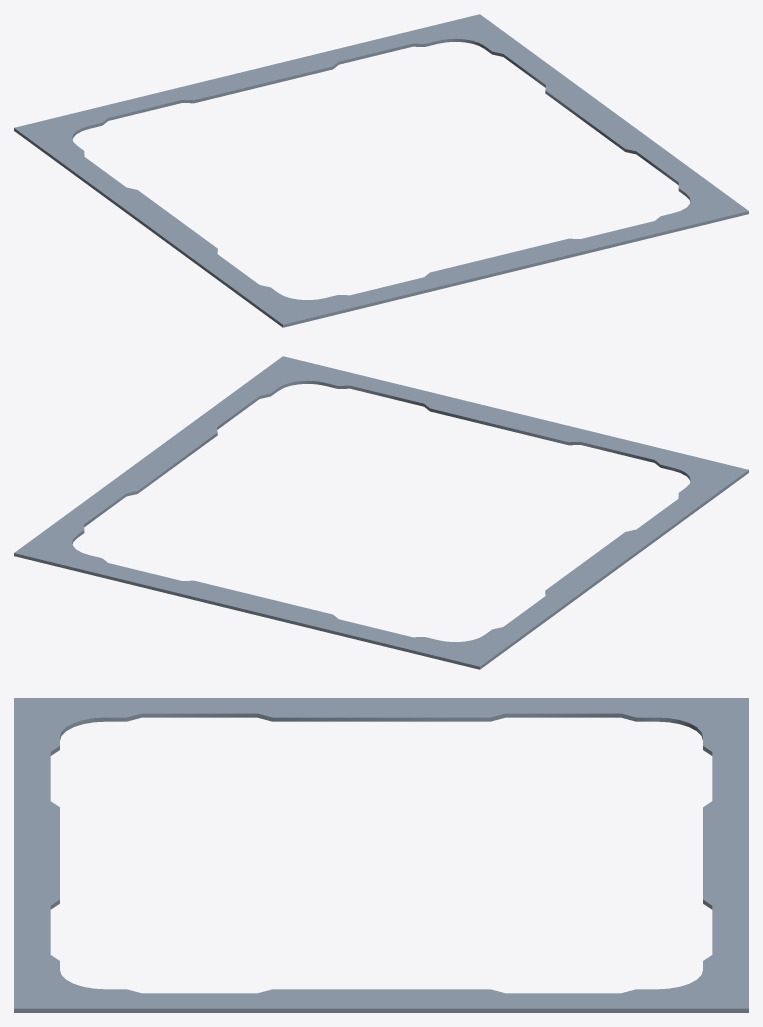
The model's file is RoadSideClosedOff.fbx.
3 views of the same model, one above another, from view 1: azimuth 30°, elevation 25°; view 2: azimuth 150°, elevation 25°; view 3: azimuth 270°, elevation 25° (orthographic). The views are drawn at different scales.
Visible parts, largest first — view 1: RoadSideClosedOff_LOD0; view 2: RoadSideClosedOff_LOD0; view 3: RoadSideClosedOff_LOD0.
Boxes of the visible parts, bbox=[...] form: RoadSideClosedOff_LOD0: bbox=[14, 14, 748, 327]; RoadSideClosedOff_LOD0: bbox=[14, 356, 748, 669]; RoadSideClosedOff_LOD0: bbox=[14, 698, 748, 1012].
Size of what is drawn, in the model's own units: 1600 by 10 by 1600.
